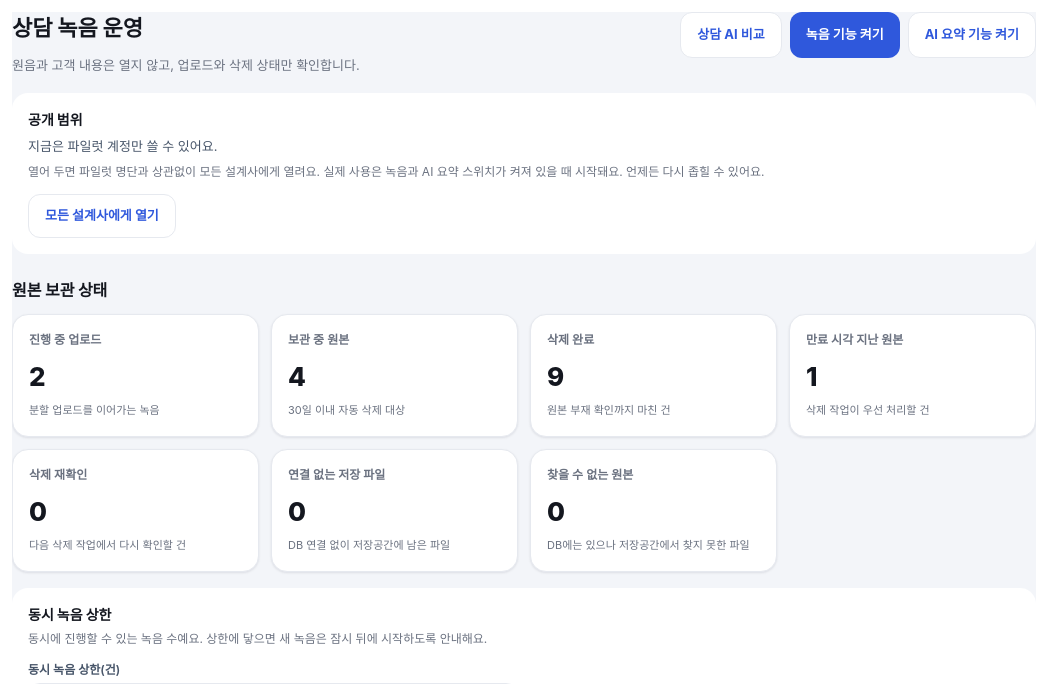
Test case: 상담 녹음 관리자 화면 › 운영 스위치를 저장하고 새 상태를 반영한다
Expected: the heading "상담 녹음 운영" is shown, 12,15 -> 143,41
Step 1. Click the button "녹음 기능 켜기" → (845, 35), box 790,12 -> 900,58
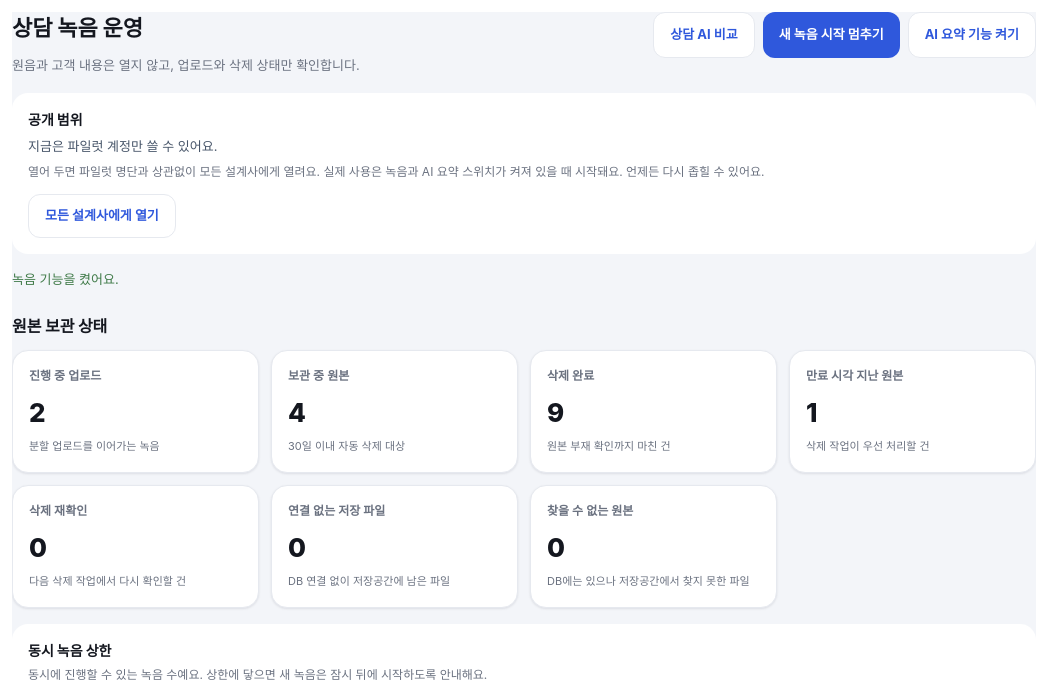
Now the text "녹음 기능을 켰어요." is shown, box 12,271 -> 119,287
